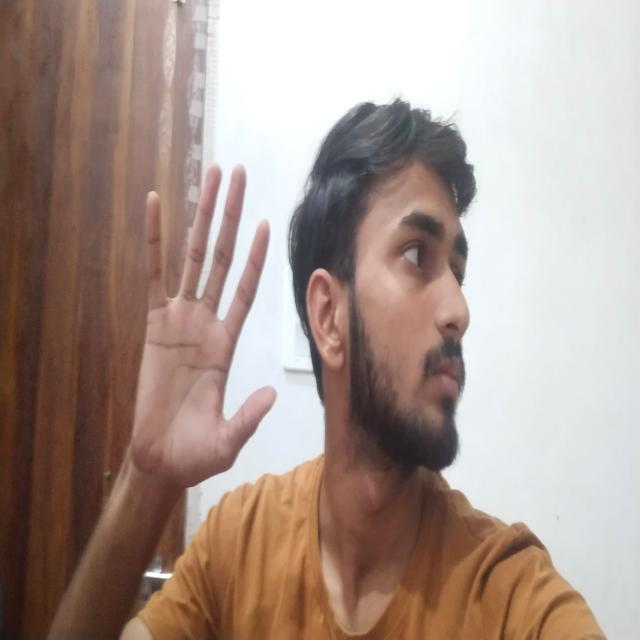hello: (116, 119, 283, 516)
